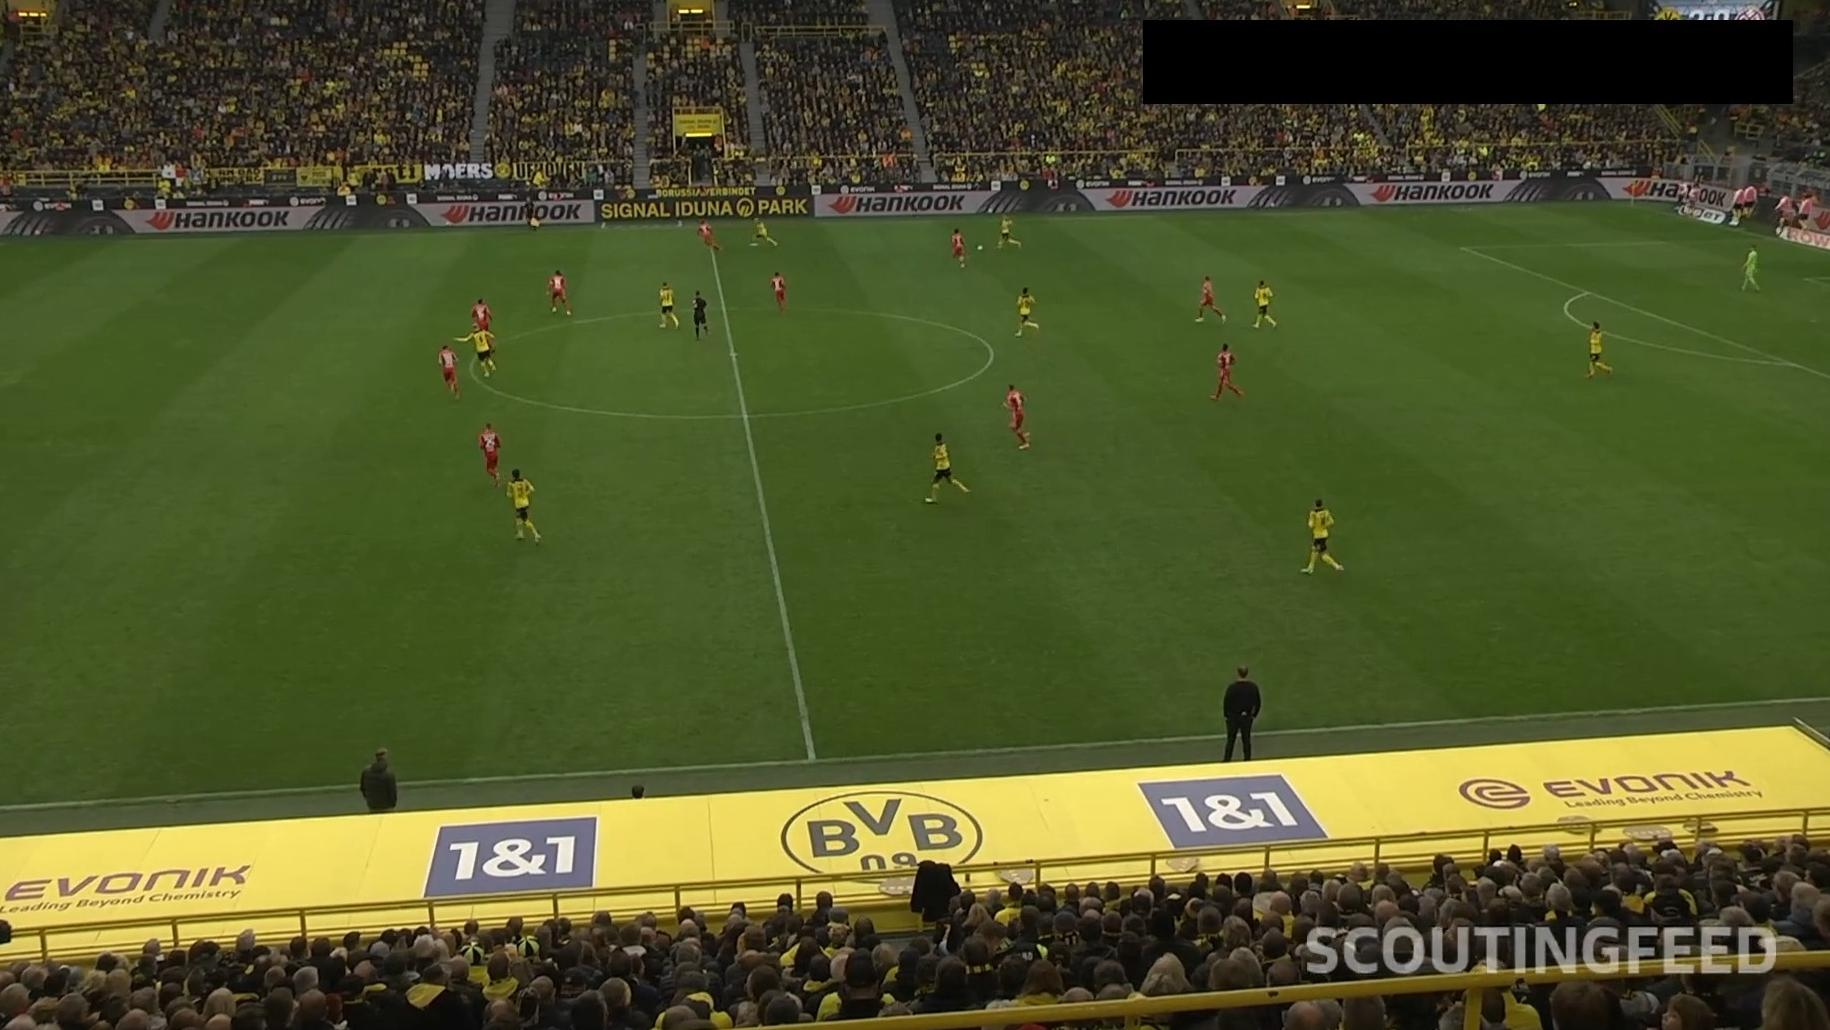ball: (975, 243, 984, 252)
